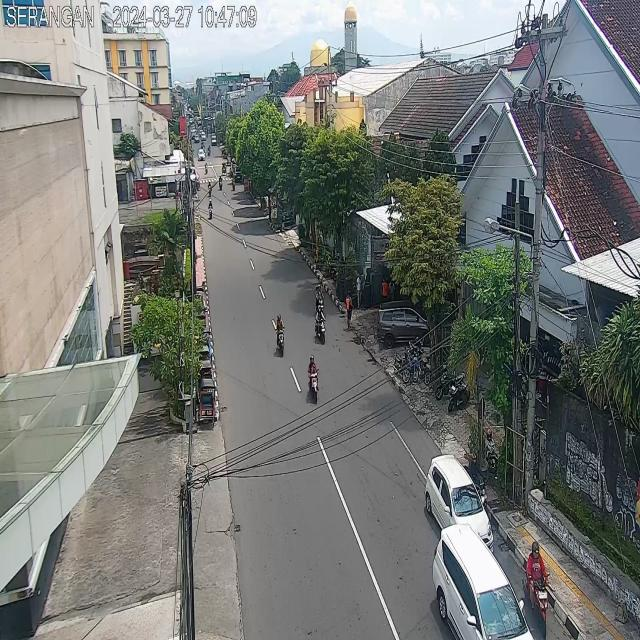car: (430, 522, 533, 640), (425, 453, 496, 552)
motorcycle: (521, 539, 552, 640), (307, 353, 321, 404), (275, 311, 286, 358), (314, 304, 326, 345), (314, 283, 325, 312), (208, 198, 214, 221), (207, 180, 213, 198), (218, 173, 223, 191), (231, 172, 235, 194)
